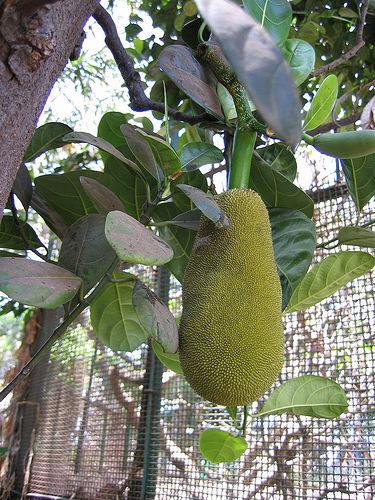jackfruit: (177, 187, 285, 407)
